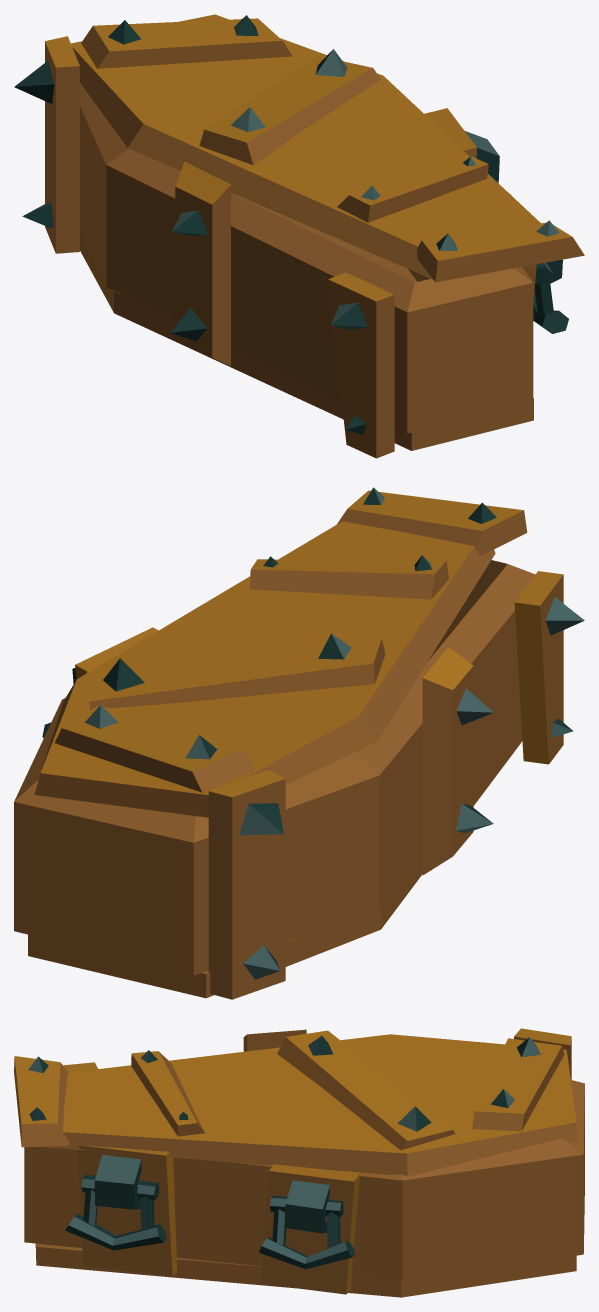
Rendered from caixao_tres_001.fbx.
The picture shows the model from 3 angles, top to bottom: view 1: azimuth 30°, elevation 25°; view 2: azimuth 150°, elevation 25°; view 3: azimuth 270°, elevation 25°; orthographic projection. The views are drawn at different scales.
Parts seen in each view (by area): view 1: caixao_tres.001; view 2: caixao_tres.001; view 3: caixao_tres.001.
Part boxes in pixels (x1,y1,x2,y2): caixao_tres.001: (14, 14, 584, 458); caixao_tres.001: (14, 487, 584, 999); caixao_tres.001: (14, 1028, 584, 1297).
Bounding box in the file's own units: 213 × 122 × 344.
